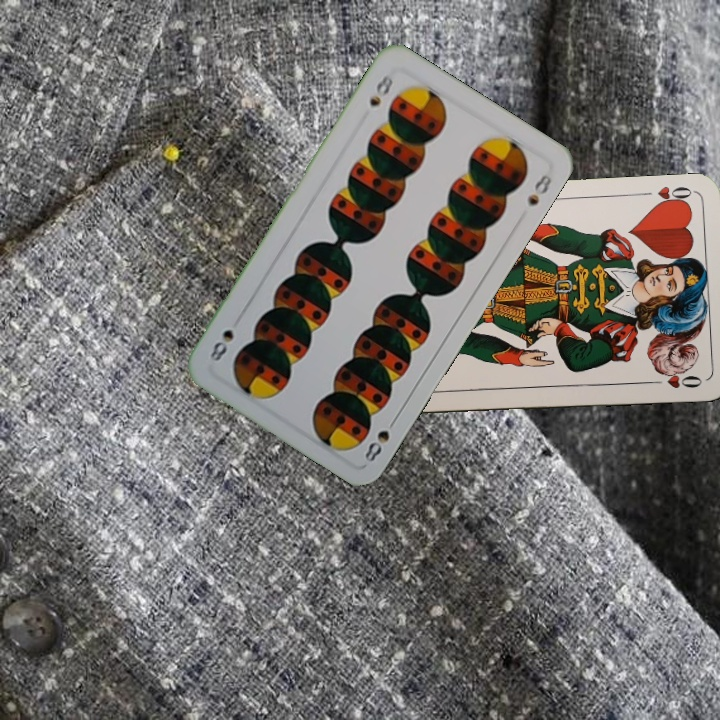HO: (649, 182, 695, 209)
S8: (360, 412, 401, 465), (365, 69, 396, 110)
